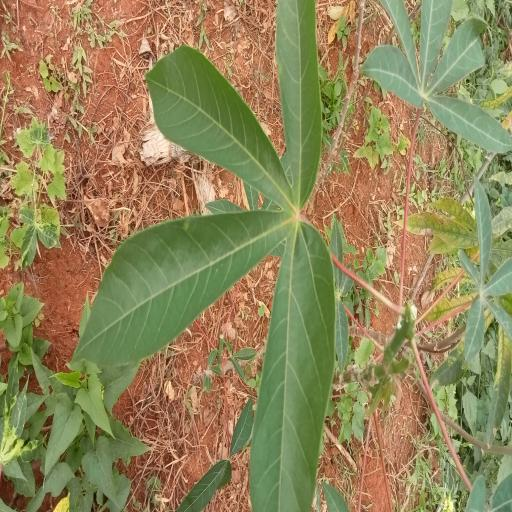Cassava_Healthy: (72, 0, 338, 512), (364, 1, 512, 160)
